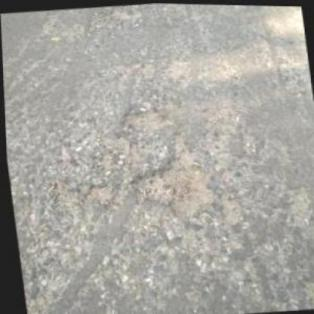Hueco: (122, 144, 216, 222), (117, 105, 173, 136), (79, 180, 113, 203)
